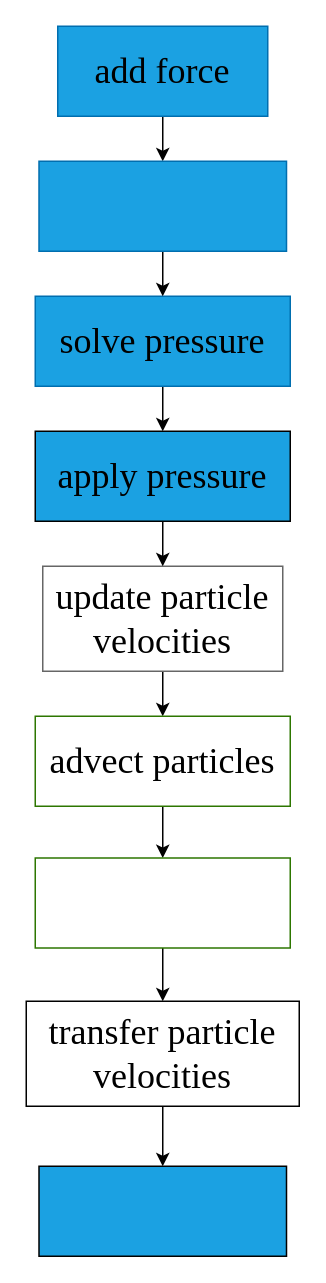
Image size: 326x1283. Some labels were removed from this diagram. Here are the shapes that lost their labels. From the top down, the centre of each, then its label:
At point (162, 205): "calculate divergence".
At point (162, 902): "mark grid cells".
At point (162, 1210): "save velocities".
